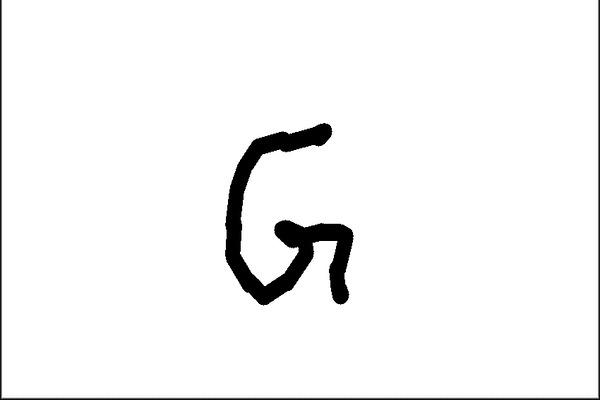G: (219, 117, 360, 308)
